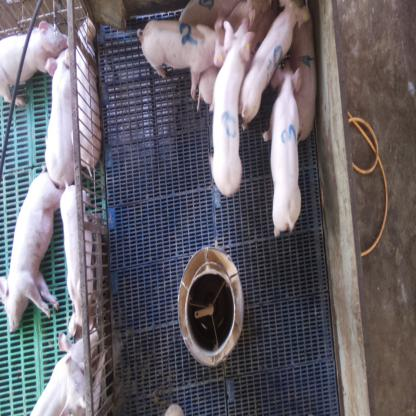1: (302, 54, 314, 66)
2: (180, 24, 198, 45)
3: (282, 125, 298, 149)
N-A: (223, 111, 237, 138)
